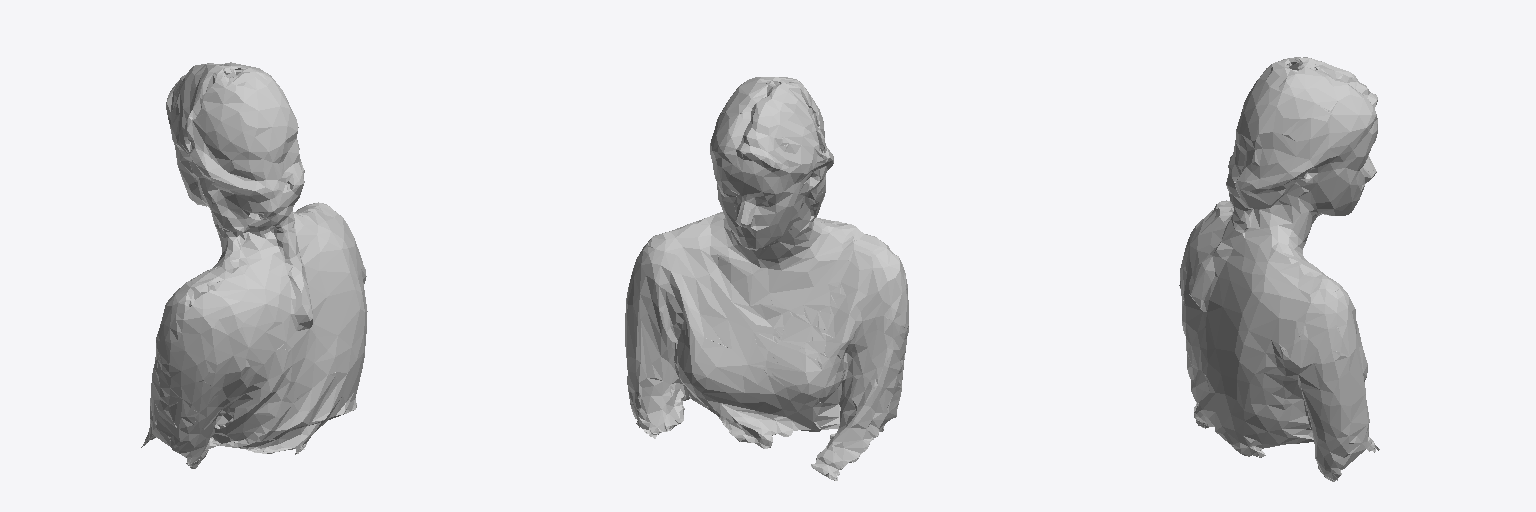
File: buste_suzanne_3.obj
The picture shows the model from 3 angles: view 1: azimuth 30°, elevation 25°; view 2: azimuth 150°, elevation 25°; view 3: azimuth 270°, elevation 25°; orthographic projection.
Parts seen in each view (by area): view 1: Object.1; view 2: Object.1; view 3: Object.1.
Boxes of the visible parts, <box> form: Object.1: <box>141,62,367,468</box>; Object.1: <box>625,77,908,480</box>; Object.1: <box>1179,57,1379,481</box>.
Bounding box in the file's own units: 2.19 × 3.35 × 1.64.